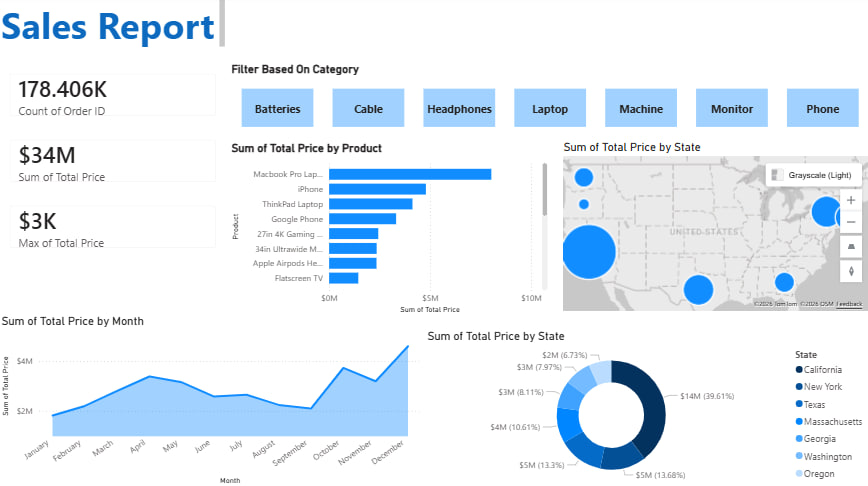

The page's visual inventory and layout, read from the dashboard file:
{"tool":"powerbi","page":{"name":"Page 1","canvas":[1280,720],"ordinal":0},"visuals":[{"type":"barChart","fields":{"Category":["Data.Product"],"Y":["Sum(Data.Total Price)"]},"box":[336.6,212.5,472.6,256.7],"z":0},{"type":"donutChart","fields":{"Category":["Data.State"],"Y":["Sum(Data.Total Price)"]},"box":[11.9,464.1,491.3,256.7],"z":1000},{"type":"cardVisual","title":"Total Of Orders","fields":{"Data":["Count(Data.Order ID)"]},"box":[0,96.9,336.6,96.9],"z":2000},{"type":"cardVisual","title":"Total Of Orders","fields":{"Data":["Sum(Data.Total Price)"]},"box":[0,193.8,336.6,96.9],"z":3000},{"type":"azureMap","fields":{"Category":["Data.State"],"Size":["Sum(Data.Total Price)"]},"box":[822.7,210.8,457.3,255],"z":4000},{"type":"advancedSlicerVisual","title":"Filter Based On Category","fields":{"Values":["Data.Category"]},"box":[336.6,96.9,943.4,115.6],"z":5000},{"type":"cardVisual","title":"Total Of Orders","fields":{"Data":["Max(Data.Total Price)"]},"box":[0,289.8,336.6,96.6],"z":6000},{"type":"textbox","box":[0,0,336.6,79.9],"z":7000},{"type":"areaChart","fields":{"Category":["Data.Order Date.Variation.Date Hierarchy.Month"],"Y":["Sum(Data.Total Price)"]},"box":[0,465.8,623.9,255],"z":8000},{"type":"donutChart","fields":{"Category":["Data.State"],"Y":["Sum(Data.Total Price)"]},"box":[623.9,487.9,656.1,232.9],"z":9000}]}

Visuals, with their boxes in screenshot pixels (x1, y1, x2, y2), scaled from the page's 1280x720 canvas onto the 868x486 screenshot:
barChart - Data.Product x Sum(Data.Total Price): rect(228, 143, 549, 317)
donutChart - Data.State x Sum(Data.Total Price): rect(8, 313, 341, 485)
"Total Of Orders" cardVisual: rect(0, 65, 228, 131)
"Total Of Orders" cardVisual: rect(0, 131, 228, 196)
azureMap - Data.State x Sum(Data.Total Price): rect(558, 142, 867, 314)
"Filter Based On Category" advancedSlicerVisual: rect(228, 65, 867, 143)
"Total Of Orders" cardVisual: rect(0, 196, 228, 261)
textbox: rect(0, 0, 228, 54)
areaChart - Data.Order Date.Variation.Date Hierarchy.Month x Sum(Data.Total Price): rect(0, 314, 423, 485)
donutChart - Data.State x Sum(Data.Total Price): rect(423, 329, 867, 485)
